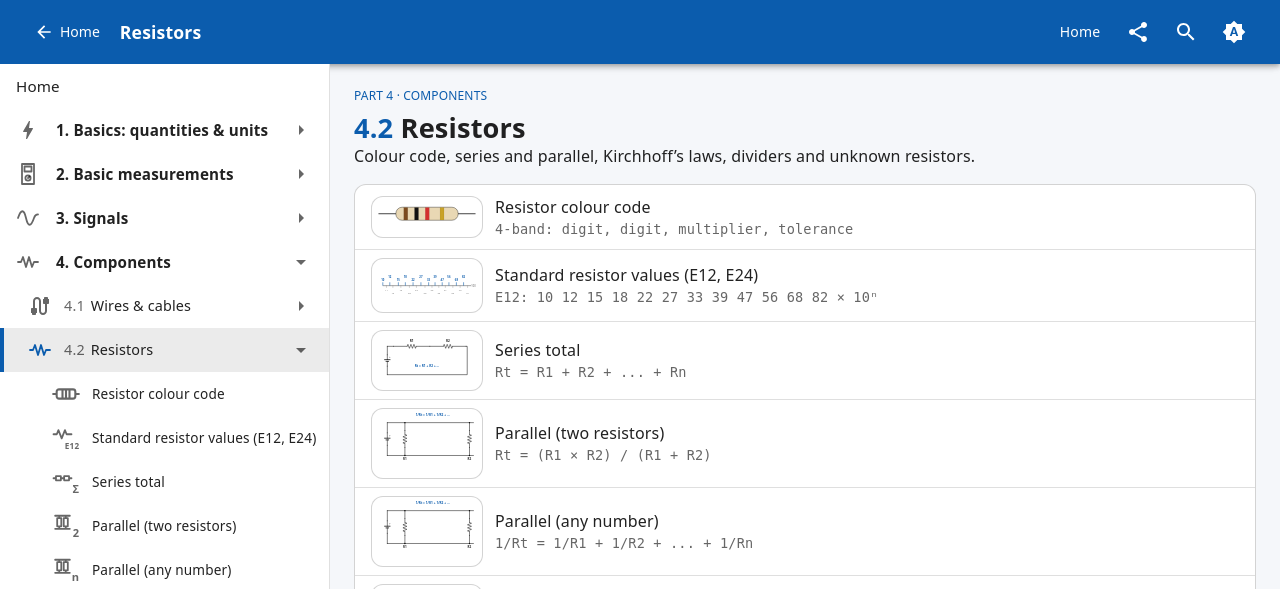
Test: search dialog › click a result: navigates there, closes, and the previous page is remembered for Back
Click the button with test id "search-button": point(1186, 32) x1=1164 y1=10 x2=1208 y2=54
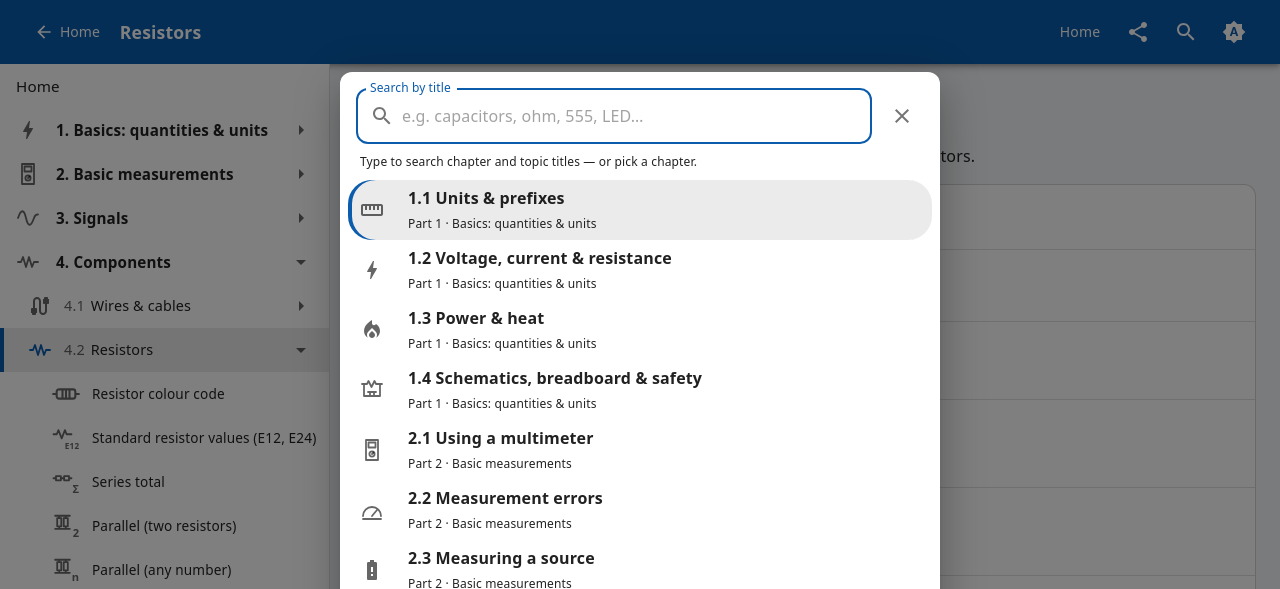
In the dropdown with test id "search-input": point(637, 116) x1=402 y1=88 x2=872 y2=144, type "rc time"
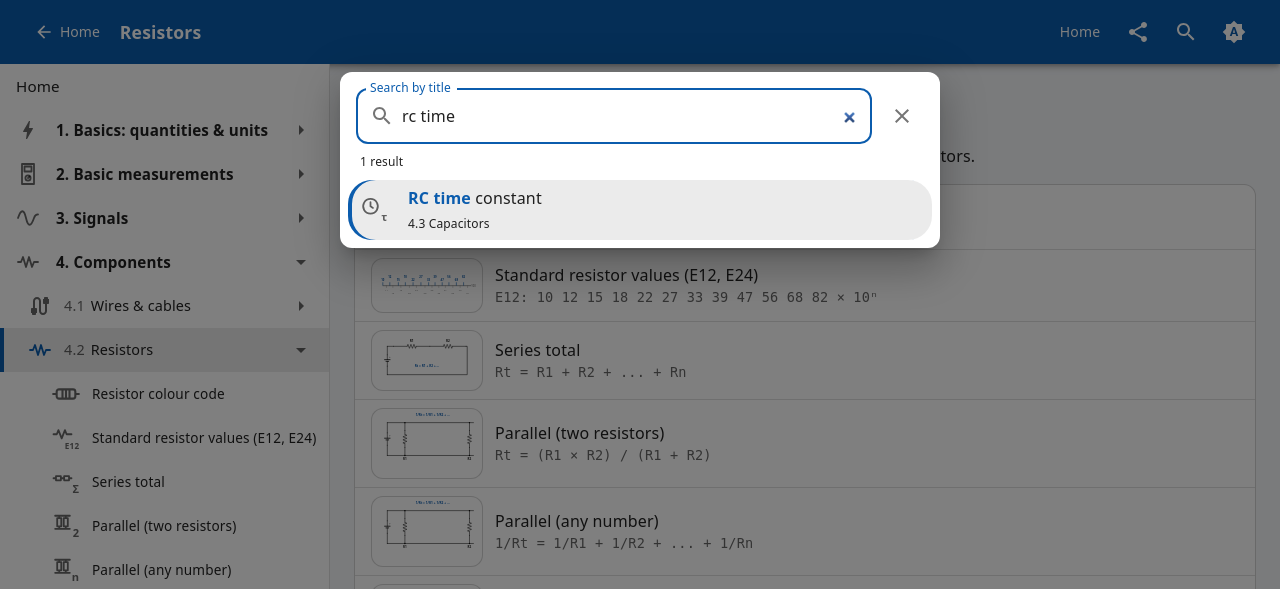
Click the option with test id "result-topic-rc-tau": point(452, 198) x1=348 y1=180 x2=932 y2=240
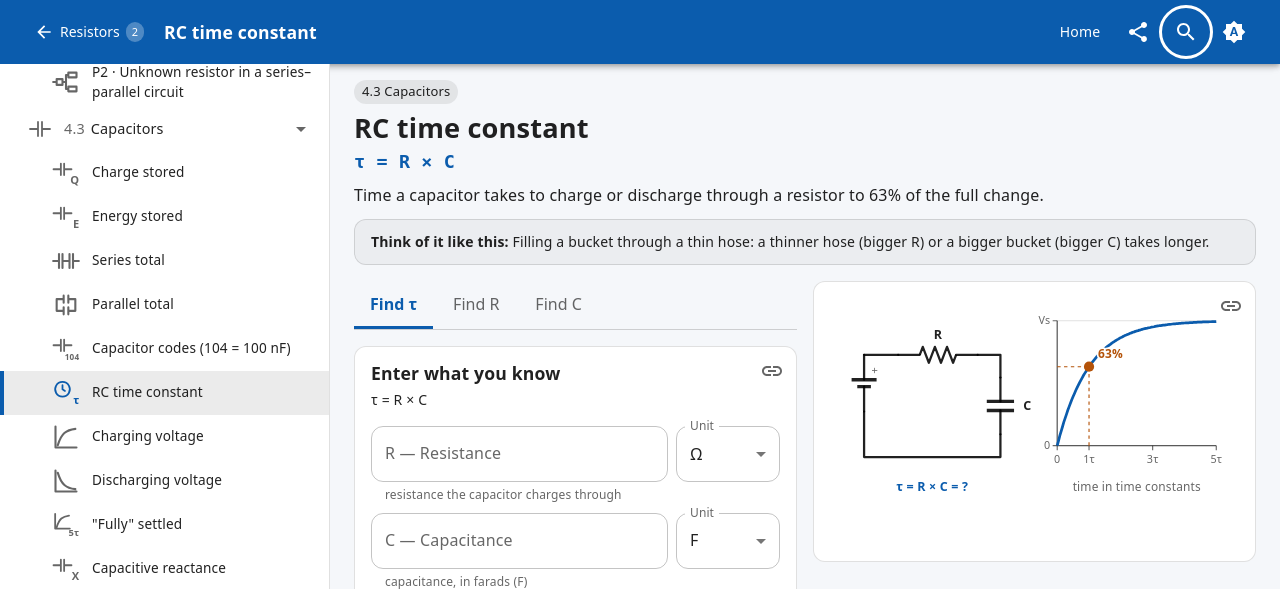
Result: the heading "RC time constant" is shown at x1=354 y1=109 x2=589 y2=146
Result: the dropdown with test id "search-input" is gone
